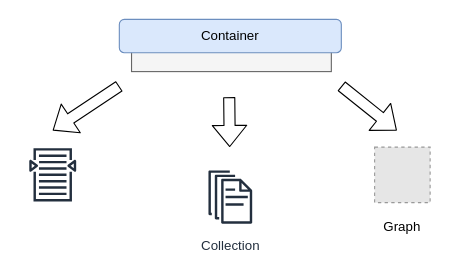
This 450x273 diagram has some shape labels left out. Grey dashed boxes stand in for pictures. The shapes that lost their labels are listed below. From the top down, each one's box as (x1, y1, x2, y2) in pixels, then its label:
(130, 48, 331, 72): Projections
(18, 140, 86, 208): Table
